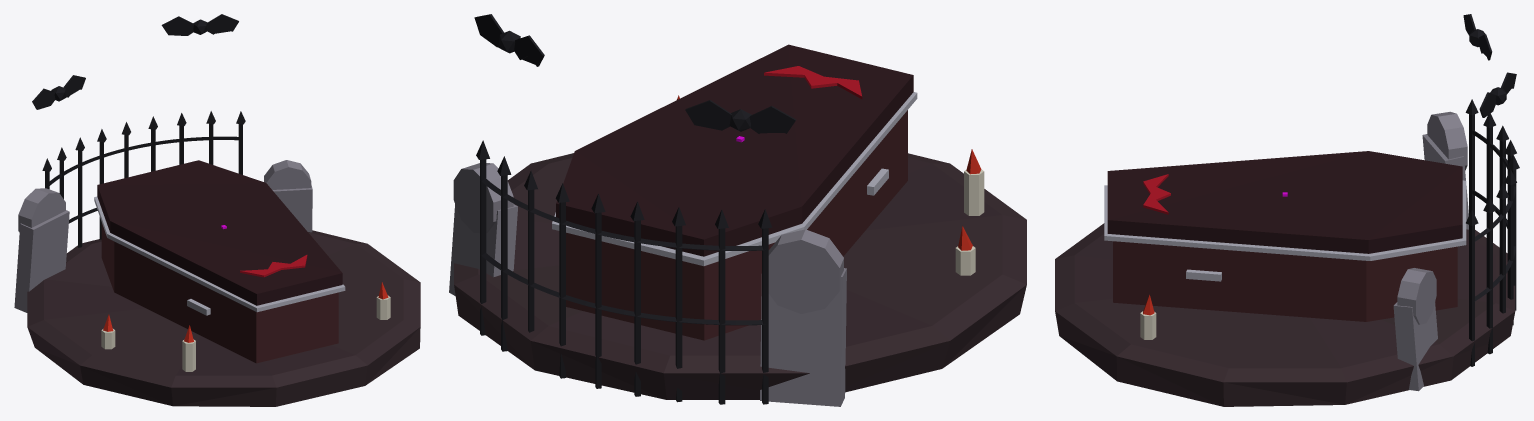
Rendered from Platform_VampireShiba.fbx.
3 views of the same model, side by side, from view 1: azimuth 30°, elevation 25°; view 2: azimuth 150°, elevation 25°; view 3: azimuth 270°, elevation 25° (orthographic). The views are drawn at different scales.
Visible parts, largest first — view 1: Body.001; view 2: Body.001; view 3: Body.001.
Part boxes in pixels (bbox=[...]): Body.001: bbox=[14, 14, 420, 406]; Body.001: bbox=[449, 14, 1026, 406]; Body.001: bbox=[1055, 14, 1519, 406].
Size of the model in its own units: 9.08 by 5.8 by 9.17.
